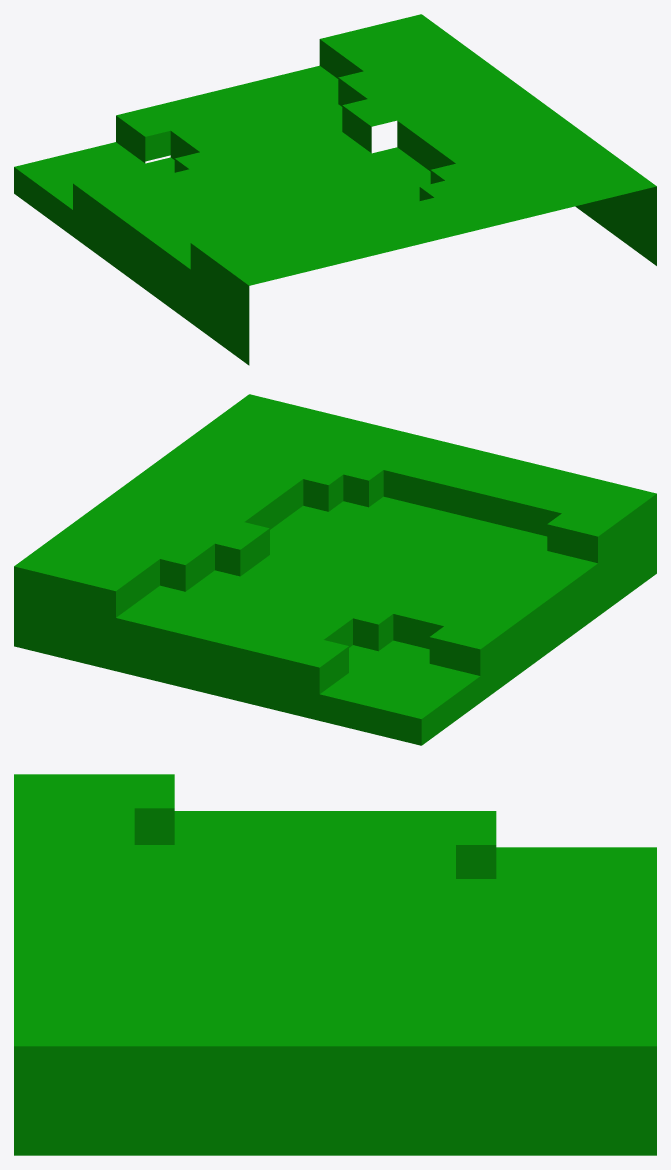
Rendered from Corner18.fbx.
3 views of the same model, one above another, from view 1: azimuth 30°, elevation 25°; view 2: azimuth 150°, elevation 25°; view 3: azimuth 270°, elevation 25° (orthographic). The views are drawn at different scales.
Visible parts, largest first — view 1: Matrix; view 2: Matrix; view 3: Matrix.
Boxes of the visible parts, x1,y1,x2,y2 form: Matrix: (14,14,656,365); Matrix: (14,394,656,745); Matrix: (14,774,656,1155).
Bounding box in the file's own units: 16 × 3 × 16.
Materials: 1 (1 with a texture image).
